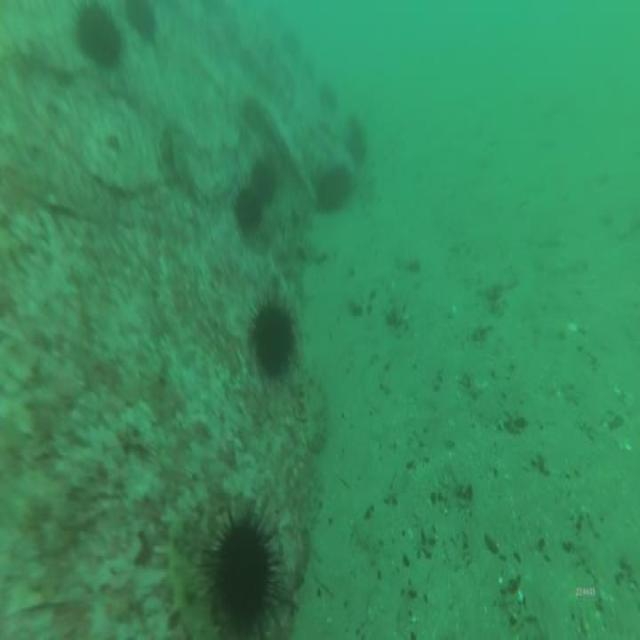echinus: (197, 490, 298, 640), (247, 285, 301, 387), (72, 0, 126, 76), (113, 0, 161, 55), (231, 176, 265, 248), (314, 163, 348, 221), (247, 155, 278, 210), (343, 114, 370, 167), (314, 76, 342, 117), (279, 22, 302, 62)
holothurian: (157, 509, 223, 640), (297, 368, 331, 458)
